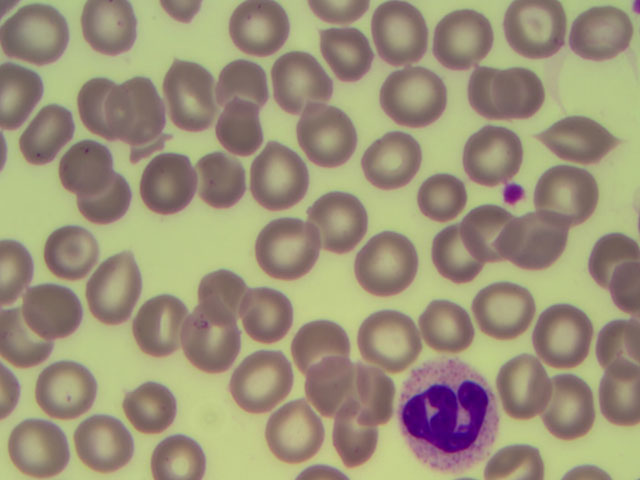Platelets: (500, 178, 527, 205)
RBC: (5, 4, 67, 64), (109, 80, 171, 140), (67, 74, 129, 134), (16, 102, 78, 162), (48, 129, 110, 189), (73, 165, 135, 225), (129, 156, 191, 216), (180, 153, 242, 213), (161, 65, 223, 125), (200, 52, 262, 112), (213, 104, 275, 164), (245, 147, 307, 207), (294, 107, 356, 167), (272, 46, 334, 106), (308, 20, 370, 80), (371, 3, 433, 63), (494, 62, 556, 122), (451, 62, 513, 122), (380, 67, 442, 127), (435, 10, 497, 70), (569, 2, 631, 62), (550, 114, 612, 174), (544, 162, 606, 222), (491, 214, 553, 274), (452, 201, 514, 261), (427, 230, 489, 290), (419, 164, 481, 224), (462, 122, 524, 182), (359, 130, 421, 190), (310, 192, 372, 252), (257, 215, 319, 275), (240, 286, 302, 346), (194, 265, 256, 325), (179, 321, 241, 381), (146, 306, 208, 366), (82, 251, 144, 311), (43, 218, 105, 278), (31, 281, 93, 341), (5, 314, 67, 374), (30, 355, 92, 415), (9, 417, 71, 477), (75, 416, 137, 476), (111, 375, 173, 435), (150, 420, 212, 480), (228, 351, 290, 411), (260, 402, 322, 462), (300, 355, 362, 415), (337, 366, 399, 426), (334, 400, 396, 460), (289, 318, 351, 378), (362, 309, 424, 369), (413, 298, 475, 358), (359, 229, 421, 289), (476, 278, 538, 338), (542, 305, 604, 365), (500, 363, 562, 423), (540, 377, 602, 437), (578, 367, 640, 427), (79, 1, 141, 60), (234, 1, 296, 60), (512, 1, 574, 60), (506, 1, 568, 60), (586, 232, 640, 293)
WBC: (397, 360, 502, 471)
